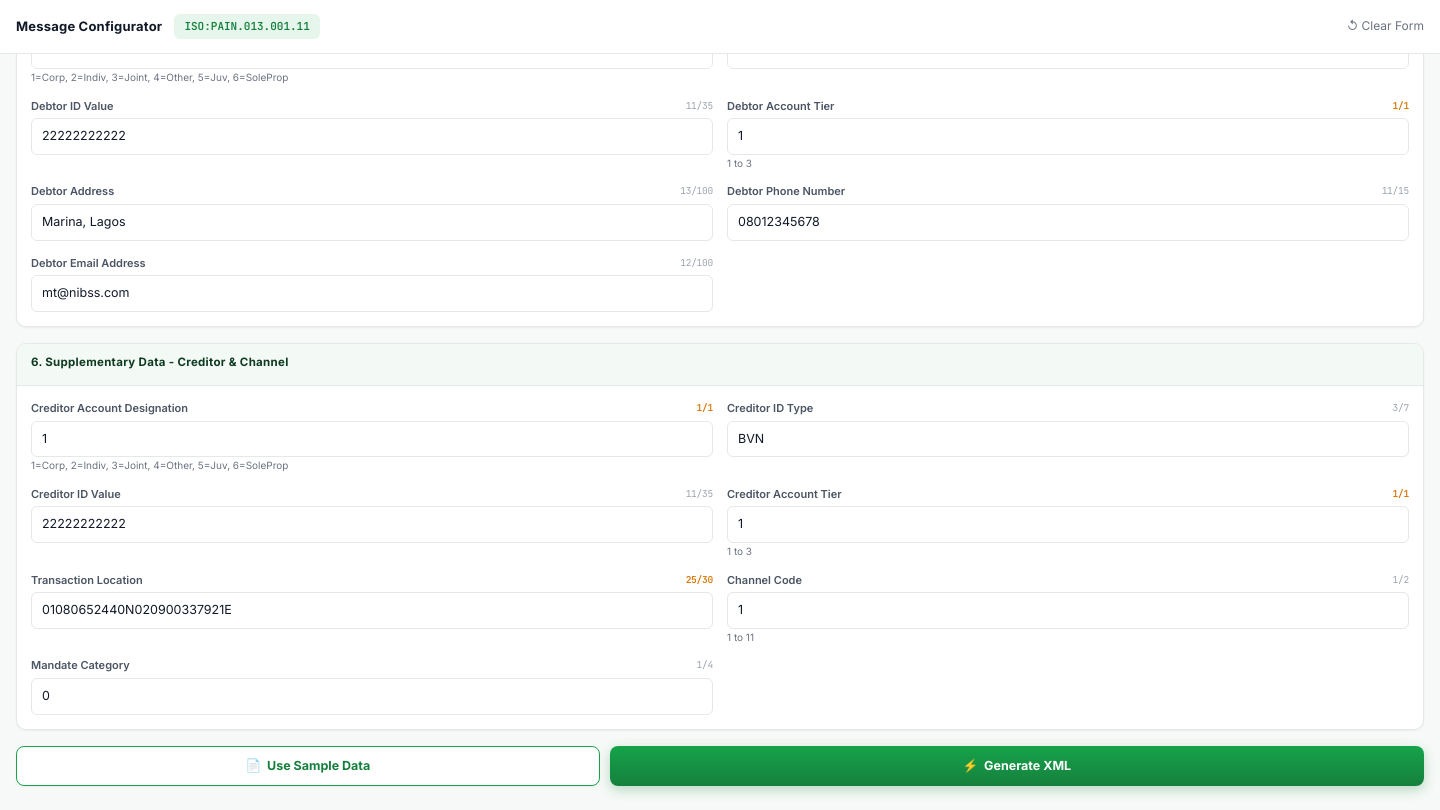
Test: MessageConfigurator Component (react-hook-form + zod) › loads pre-filled spec data when clicking Load button
(page scrolled)
Click the button "📄 Use Sample Data" at (308, 766), box x1=16 y1=746 x2=600 y2=786
(page scrolled)
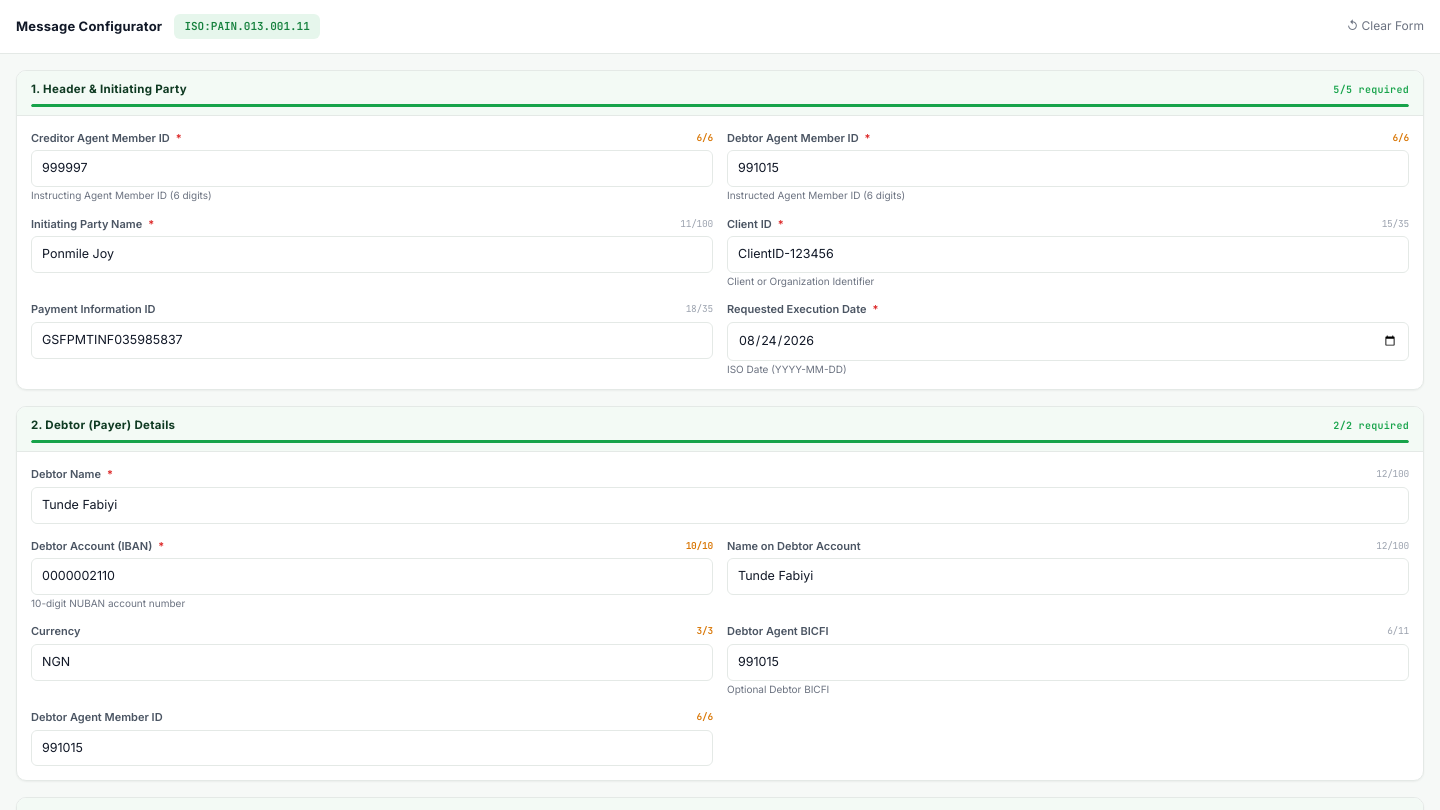
Expected: the field showing "Ponmile Joy" below "Initiating Party Name" is shown, x1=31 y1=236 x2=713 y2=273
